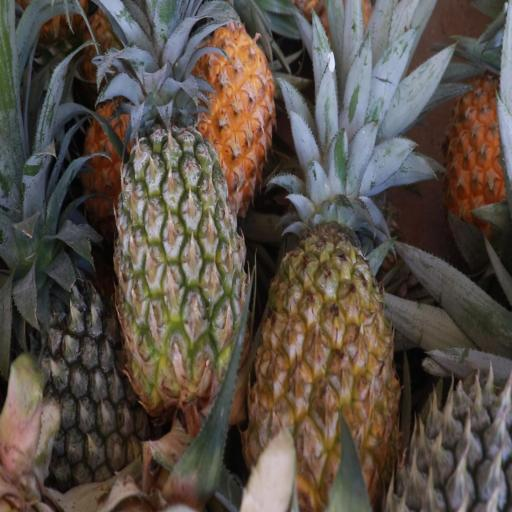------------------------------: (114, 129, 244, 399)
Pineapple - v8 v1: (249, 176, 399, 510), (120, 16, 267, 155), (446, 76, 512, 210)
